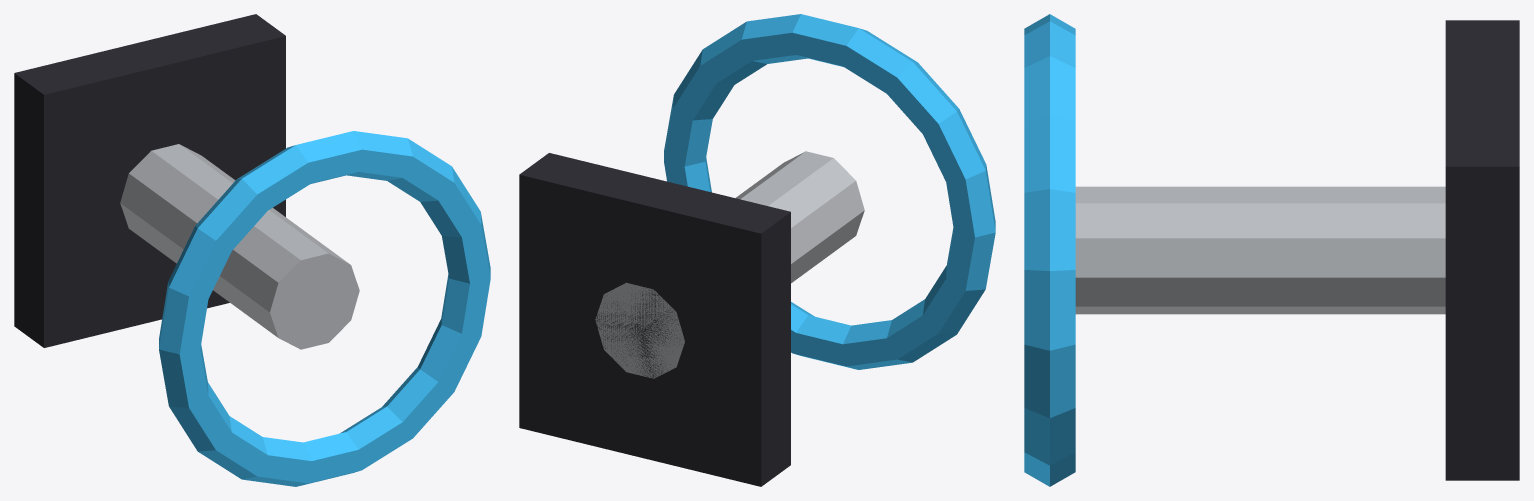
File: magnetic_grapple_anchor.glb
3 renders of one model, left to right at view 1: azimuth 30°, elevation 25°; view 2: azimuth 150°, elevation 25°; view 3: azimuth 270°, elevation 25°, orthographic. The views are drawn at different scales.
Visible parts, largest first — view 1: base, magnet, post; view 2: base, magnet, post; view 3: post, base, magnet.
Part boxes in pixels (x1,y1,x2,y2): base: (14, 14, 285, 347); magnet: (159, 131, 490, 486); post: (120, 144, 359, 349); base: (519, 153, 790, 486); magnet: (664, 14, 995, 369); post: (595, 151, 864, 378); post: (1075, 186, 1445, 314); base: (1445, 20, 1519, 480); magnet: (1024, 14, 1075, 486).
Size of the model in its own units: 0.96 by 0.9454 by 1.
